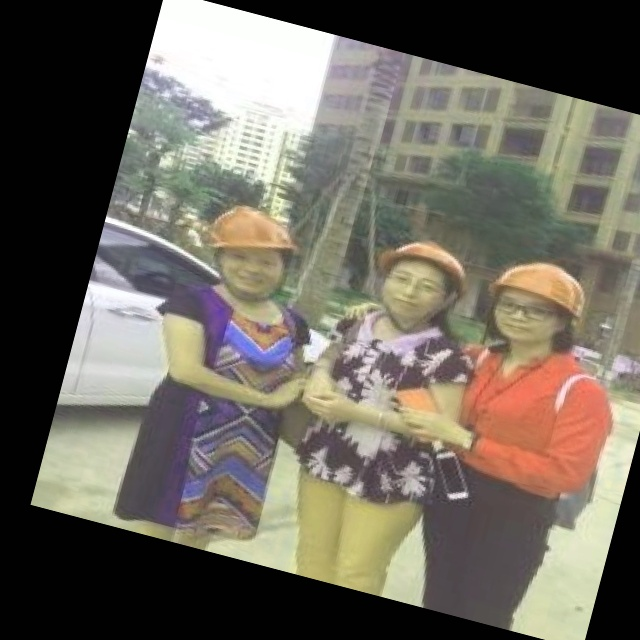Con_Casco: (365, 230, 470, 331), (485, 254, 592, 353), (204, 199, 300, 297)
